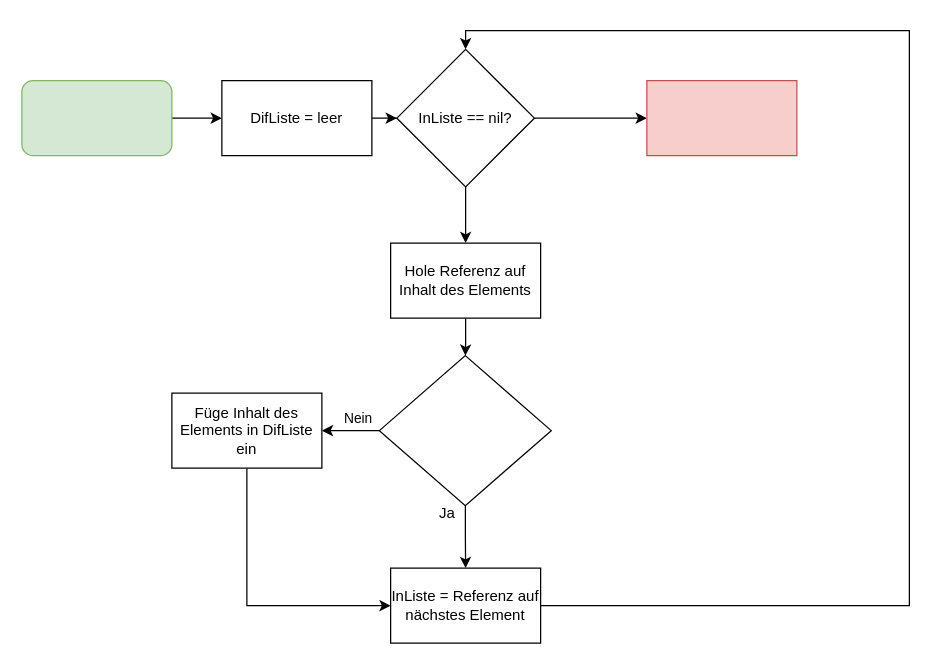
Some shapes in this 941 by 665 pixel diagram are drawn without their labels. The centre of each missing label's shape, as x and y in pixels:
"diffList Input: InListe und LoeschListe" goes at (96,117).
"Gebe DifListe aus" goes at (721,117).
"Inhalt des Elment in LoeschListe enthalten?" goes at (464,430).
